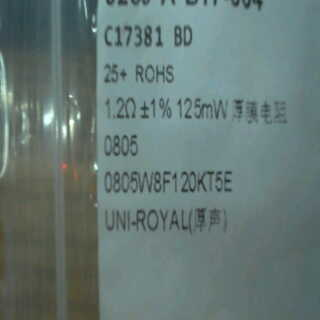1.2R: (102, 95, 138, 160)
